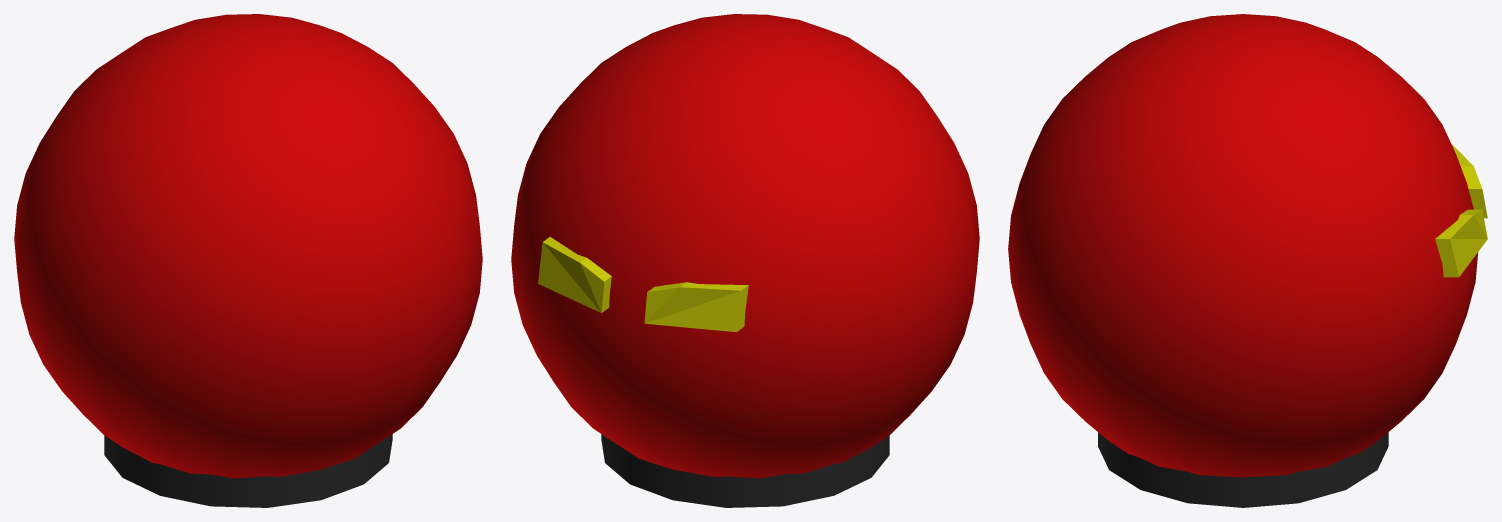
Rendered from enemy_walker_body.obj.
The picture shows the model from 3 angles, left to right: view 1: azimuth 30°, elevation 25°; view 2: azimuth 150°, elevation 25°; view 3: azimuth 270°, elevation 25°; orthographic projection.
Parts seen in each view (by area): view 1: body, hip; view 2: body, hip, eye; view 3: body, hip, eye.
Boxes of the visible parts, bbox=[...] form: body: bbox=[14, 14, 482, 478]; hip: bbox=[104, 434, 392, 507]; body: bbox=[511, 14, 979, 478]; hip: bbox=[601, 434, 889, 507]; eye: bbox=[538, 237, 748, 332]; body: bbox=[1008, 14, 1478, 477]; hip: bbox=[1098, 432, 1388, 507]; eye: bbox=[1435, 144, 1487, 277].
Size of the model in its own units: 0.68 by 0.68 by 0.6936.
